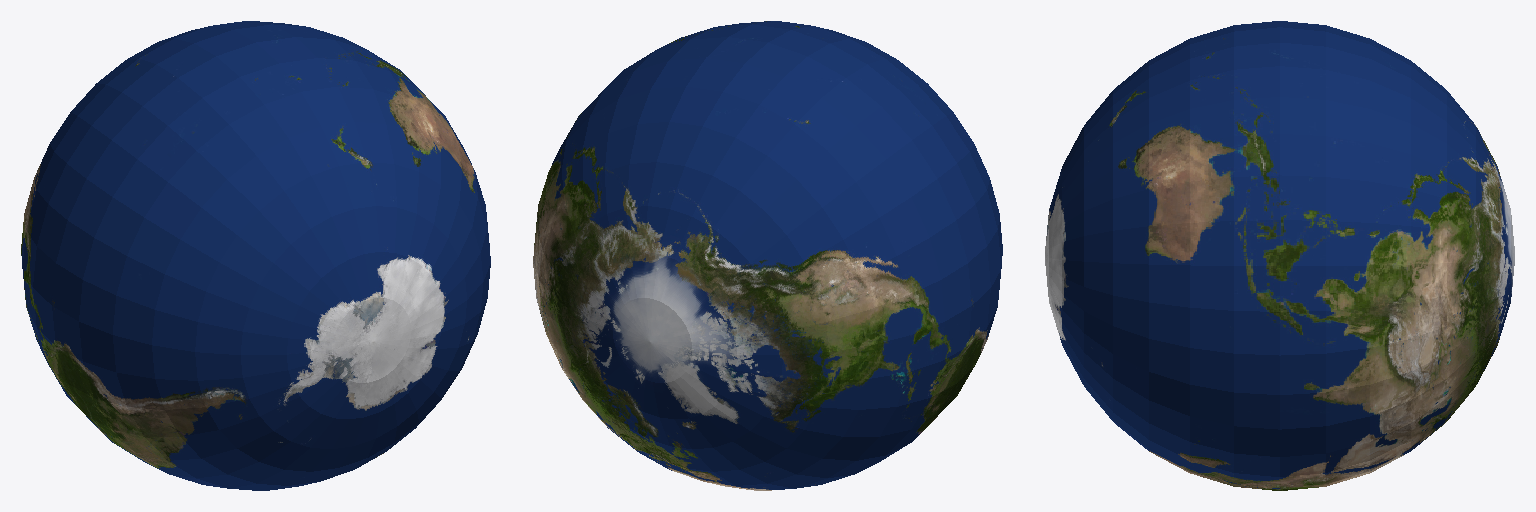
3 renders of one model, left to right at view 1: azimuth 30°, elevation 25°; view 2: azimuth 150°, elevation 25°; view 3: azimuth 270°, elevation 25°, orthographic.
Parts seen in each view (by area): view 1: Sphere; view 2: Sphere; view 3: Sphere.
Part boxes in pixels (bbox=[...]): Sphere: bbox=[21, 21, 490, 490]; Sphere: bbox=[533, 21, 1002, 490]; Sphere: bbox=[1045, 21, 1514, 490].
Size of the model in its own units: 2 by 2 by 2.
Materials: 1 (1 with a texture image).